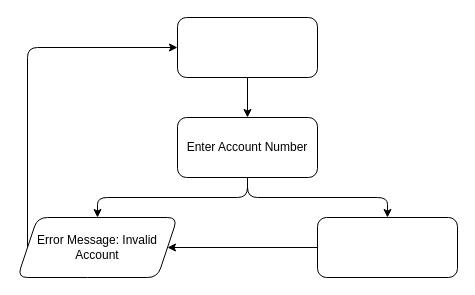
Some shapes in this 475 by 295 pixel diagram are drawn without their labels. The shapes that lost their labels are listed below. From the top down, each one's box as (x1, y1, x2, y2) in pixels, then its label:
(176, 16, 318, 78): ATM-Bank-Simluator
(316, 216, 458, 278): Enter Account Password
